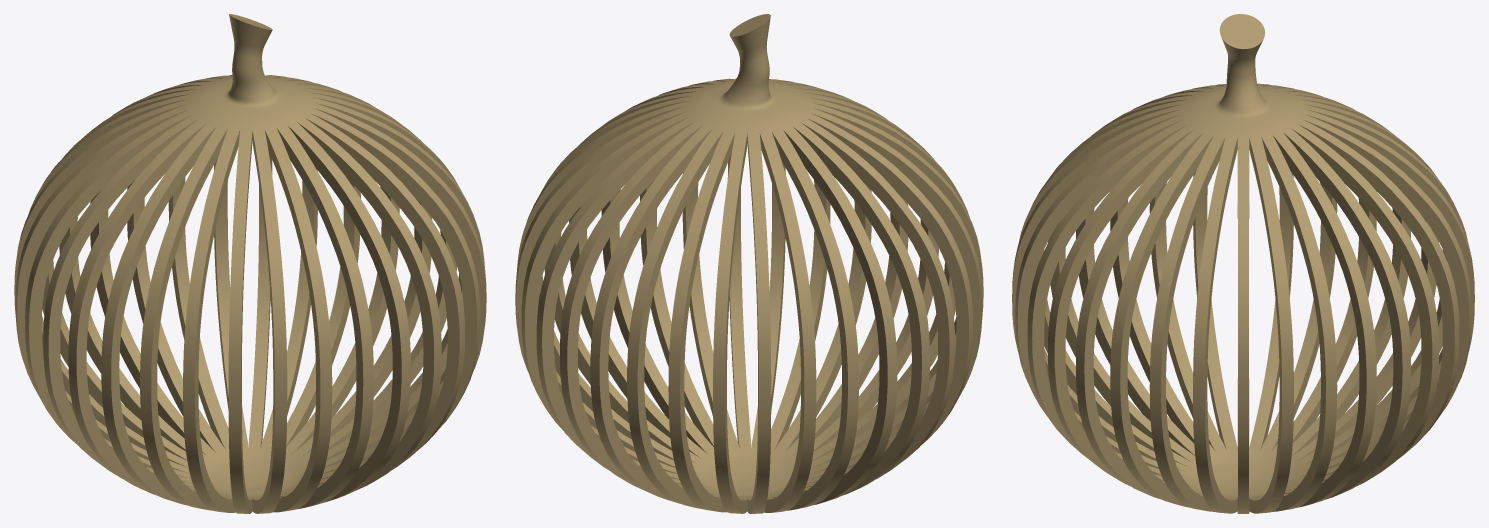
File: onion.glb
The picture shows the model from 3 angles, left to right: view 1: azimuth 30°, elevation 25°; view 2: azimuth 150°, elevation 25°; view 3: azimuth 270°, elevation 25°; orthographic projection. The views are drawn at different scales.
Parts seen in each view (by area): view 1: Onion; view 2: Onion; view 3: Onion.
Part boxes in pixels (left/top/right/bottom): Onion: left=14, top=14, right=486, bottom=513; Onion: left=515, top=14, right=983, bottom=513; Onion: left=1012, top=14, right=1474, bottom=513.
Size of the model in its own units: 1.65 by 1.84 by 1.65.
